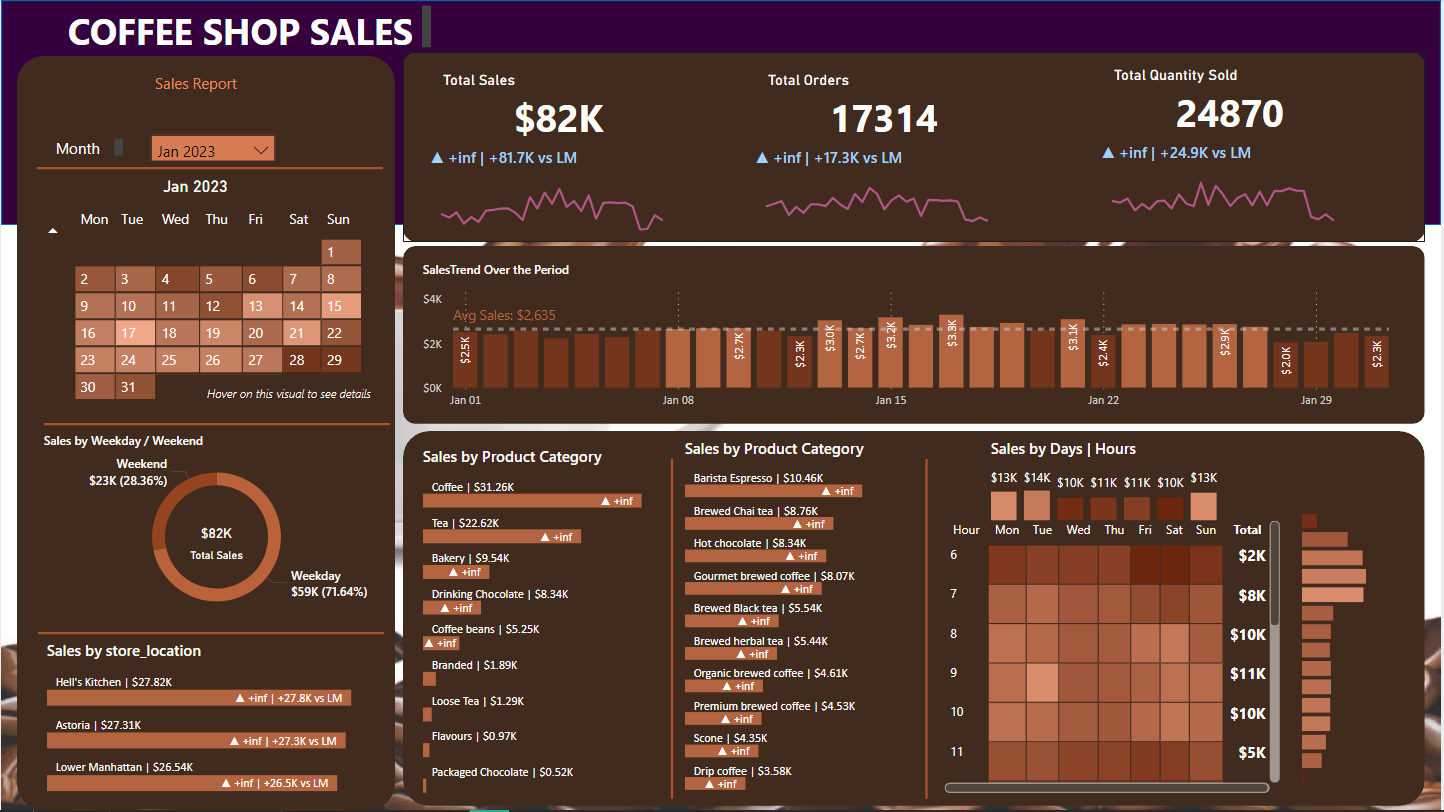

This screenshot's page, from the dashboard's own definition file:
{"tool":"powerbi","page":{"name":"Page 1","canvas":[1280,720],"ordinal":0},"visuals":[{"type":"shape","box":[0,0,1280,200],"z":0},{"type":"shape","box":[14.2,49.8,336,670.2],"z":1000},{"type":"shape","box":[357.3,46.2,908.4,168.9],"z":2000},{"type":"textbox","box":[54.2,0,333.3,49.8],"z":3000},{"type":"card","title":"Total Quantity Sold","fields":{"Values":["Transactions.Total Quantity Sold"]},"box":[974.2,55.1,224.9,70.7],"z":4000,"group":"g3"},{"type":"card","title":"Total Sales","fields":{"Values":["Transactions.TOTAL SALES"]},"box":[377.8,59.6,224,70.7],"z":4000,"group":"g2"},{"type":"card","title":"Total Orders","fields":{"Values":["Transactions.Total Orders"]},"box":[666.7,59.6,224.9,70.7],"z":4000,"group":"g1"},{"type":"slicer","fields":{"Values":["Date Table.MONTH & YEAR"]},"box":[58.7,84.4,253.3,56.9],"z":4000},{"type":"group","id":"g1","title":"Group 1","box":[665.8,59.6,225.8,151.1],"z":5000},{"type":"group","id":"g2","title":"Group 1","box":[376.9,59.6,225.8,151.1],"z":6000},{"type":"lineChart","fields":{"Category":["Date Table.Date Hierarchy.Date"],"Y":["Transactions.Total Quantity Sold"]},"box":[973.3,125.8,225.8,80.4],"z":6000,"group":"g3"},{"type":"lineChart","fields":{"Category":["Date Table.Date Hierarchy.Date"],"Y":["Transactions.TOTAL SALES"]},"box":[376.9,130.3,225.8,80.4],"z":6000,"group":"g2"},{"type":"lineChart","fields":{"Category":["Date Table.Date Hierarchy.Date"],"Y":["Transactions.Total Orders"]},"box":[665.8,130.3,225.8,80.4],"z":6000,"group":"g1"},{"type":"group","id":"g3","title":"Group 1","box":[973.3,55.1,225.8,151.1],"z":7000},{"type":"pivotTable","fields":{"Rows":["Date Table.Week Number"],"Columns":["Date Table.Day Name"],"Values":["Min(Date Table.Day Number)"]},"box":[32,196.4,308.4,168],"z":8000},{"type":"card","fields":{"Values":["Min(Date Table.MONTH & YEAR)"]},"box":[138.7,170.7,86.2,25.8],"z":9000},{"type":"card","fields":{"Values":["Transactions.Foot Note"]},"box":[173.3,360,167.1,23.1],"z":10000},{"type":"shape","box":[32,376.9,307.6,12.4],"z":11000},{"type":"donutChart","title":"Sales by Weekday / Weekend","fields":{"Category":["Date Table.Weekday / Weekend"],"Y":["Transactions.TOTAL SALES"]},"box":[32.9,389.3,317.3,167.1],"z":12000},{"type":"shape","box":[32,158.2,307.6,12.4],"z":13000},{"type":"card","fields":{"Values":["Transactions.TOTAL SALES"]},"box":[144.9,457.8,73.8,46.2],"z":14000},{"type":"clusteredBarChart","title":"Sales by store_location","fields":{"Category":["Transactions.store_location"],"Y":["Transactions.Placeholder","Transactions.TOTAL SALES"]},"box":[35.6,568.9,304.9,141.3],"z":15000},{"type":"shape","box":[32.9,556.4,307.6,12.4],"z":16000},{"type":"shape","box":[357.3,220.4,908.4,185],"z":17000},{"type":"columnChart","title":"SalesTrend Over the Period","fields":{"Category":["Transactions.transaction_date"],"Y":["Transactions.Total Sales"]},"box":[369.8,231.1,872.9,158.2],"z":18000},{"type":"shape","box":[357.3,408,908.4,308.4],"z":19000},{"type":"clusteredBarChart","title":"Sales by Product Category","fields":{"Y":["Transactions.Placeholder","Transactions.TOTAL SALES"],"Category":["Transactions.product_category"]},"box":[369.8,416.9,232,293.3],"z":20000},{"type":"shape","box":[602.7,421.3,22.2,283.6],"z":21000},{"type":"clusteredBarChart","title":"Sales by Product Category","fields":{"Y":["Transactions.Placeholder","Transactions.TOTAL SALES"],"Category":["Transactions.product_type"]},"box":[624.9,416,214.2,288.9],"z":21001},{"type":"shape","box":[839.1,420.4,22.2,283.6],"z":21003},{"type":"pivotTable","box":[861.3,420.4,381.3,283.6],"z":21004}]}

Visuals, with their boxes in screenshot pixels (x1, y1, x2, y2), scaled from the page's 1280x720 canvas onto the 1444x812 screenshot:
shape: l=0, t=0, r=1443, b=226
shape: l=16, t=56, r=395, b=811
shape: l=403, t=52, r=1428, b=243
textbox: l=61, t=0, r=437, b=56
"Total Quantity Sold" card: l=1099, t=62, r=1353, b=142
"Total Sales" card: l=426, t=67, r=679, b=147
"Total Orders" card: l=752, t=67, r=1006, b=147
slicer - Date Table.MONTH & YEAR: l=66, t=95, r=352, b=159
"Group 1" group: l=751, t=67, r=1006, b=238
"Group 1" group: l=425, t=67, r=680, b=238
lineChart - Date Table.Date Hierarchy.Date x Transactions.Total Quantity Sold: l=1098, t=142, r=1353, b=233
lineChart - Date Table.Date Hierarchy.Date x Transactions.TOTAL SALES: l=425, t=147, r=680, b=238
lineChart - Date Table.Date Hierarchy.Date x Transactions.Total Orders: l=751, t=147, r=1006, b=238
"Group 1" group: l=1098, t=62, r=1353, b=233
pivotTable - Date Table.Week Number x Date Table.Day Name: l=36, t=221, r=384, b=411
card - Min(Date Table.MONTH & YEAR): l=156, t=193, r=254, b=222
card - Transactions.Foot Note: l=196, t=406, r=384, b=432
shape: l=36, t=425, r=383, b=439
"Sales by Weekday / Weekend" donutChart: l=37, t=439, r=395, b=627
shape: l=36, t=178, r=383, b=192
card - Transactions.TOTAL SALES: l=163, t=516, r=247, b=568
"Sales by store_location" clusteredBarChart: l=40, t=642, r=384, b=801
shape: l=37, t=627, r=384, b=641
shape: l=403, t=249, r=1428, b=457
"SalesTrend Over the Period" columnChart: l=417, t=261, r=1402, b=439
shape: l=403, t=460, r=1428, b=808
"Sales by Product Category" clusteredBarChart: l=417, t=470, r=679, b=801
shape: l=680, t=475, r=705, b=795
"Sales by Product Category" clusteredBarChart: l=705, t=469, r=947, b=795
shape: l=947, t=474, r=972, b=794
pivotTable: l=972, t=474, r=1402, b=794
